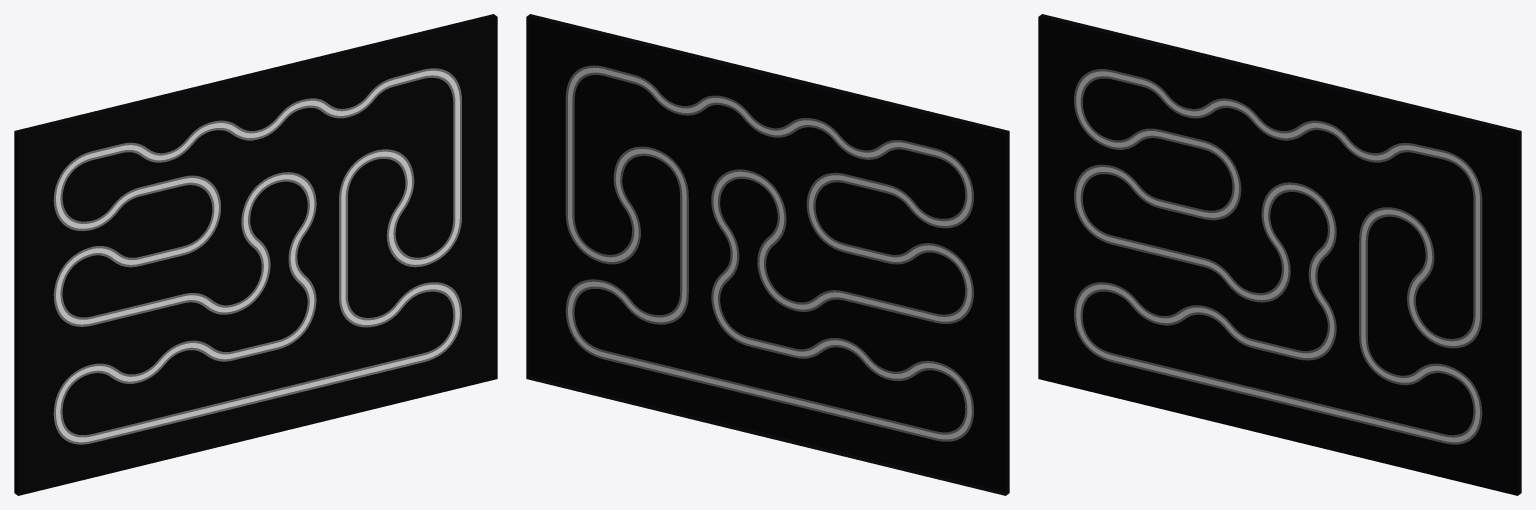
File: MiniTrack.obj
3 views of the same model, side by side, from view 1: azimuth 30°, elevation 25°; view 2: azimuth 150°, elevation 25°; view 3: azimuth 330°, elevation 25° (orthographic).
Visible parts, largest first — view 1: Mini_track; view 2: Mini_track; view 3: Mini_track.
Part boxes in pixels (x1=…): Mini_track: x1=14, y1=14, x2=497, y2=495; Mini_track: x1=526, y1=14, x2=1009, y2=495; Mini_track: x1=1038, y1=14, x2=1521, y2=495.
Bounding box in the file's own units: 2.16 × 1.56 × 0.03.
